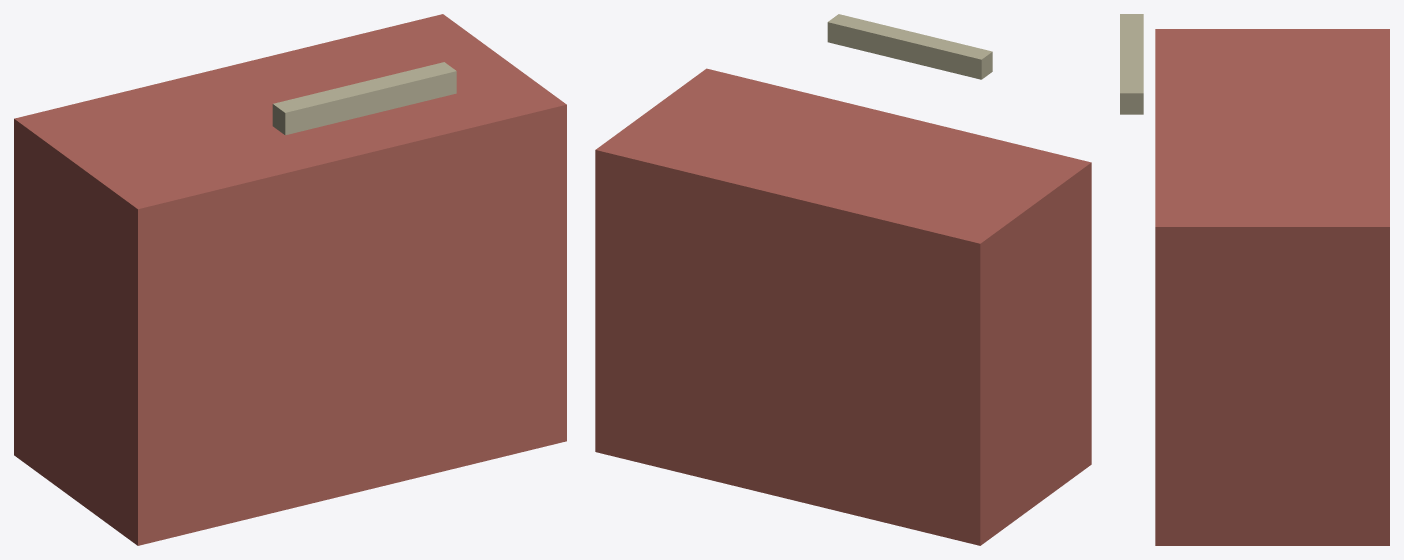
File: standin.glb
The picture shows the model from 3 angles, left to right: view 1: azimuth 30°, elevation 25°; view 2: azimuth 150°, elevation 25°; view 3: azimuth 270°, elevation 25°; orthographic projection. The views are drawn at different scales.
Visible parts, largest first — view 1: standin_body, windmill_sails; view 2: standin_body, windmill_sails; view 3: standin_body, windmill_sails.
Part boxes in pixels (x1,y1,x2,y2): standin_body: [14, 14, 566, 545]; windmill_sails: [272, 62, 456, 135]; standin_body: [595, 68, 1091, 545]; windmill_sails: [827, 14, 992, 79]; standin_body: [1155, 29, 1389, 545]; windmill_sails: [1120, 14, 1143, 114].
Size of the model in its own units: 4 by 3.7 by 2.3.
